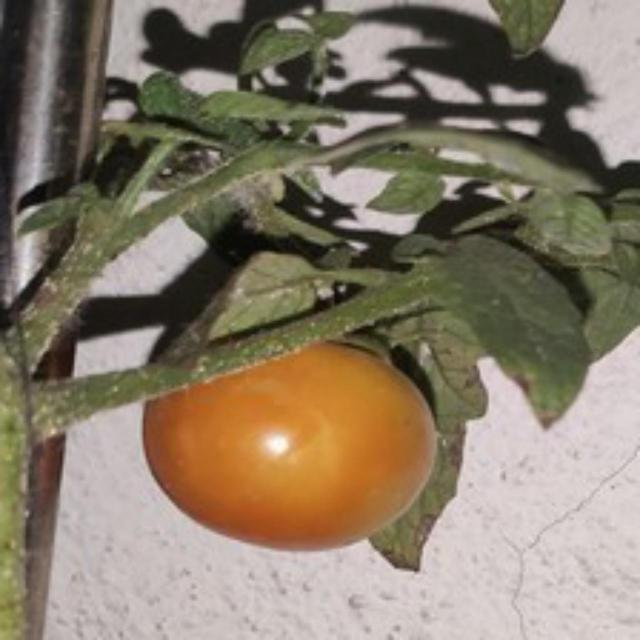tomato: (147, 340, 450, 552)
